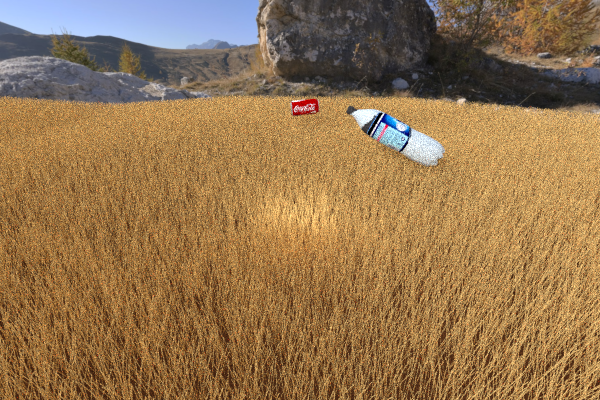bottle: (346, 105, 445, 166)
can: (458, 136, 546, 180), (290, 98, 319, 116)
